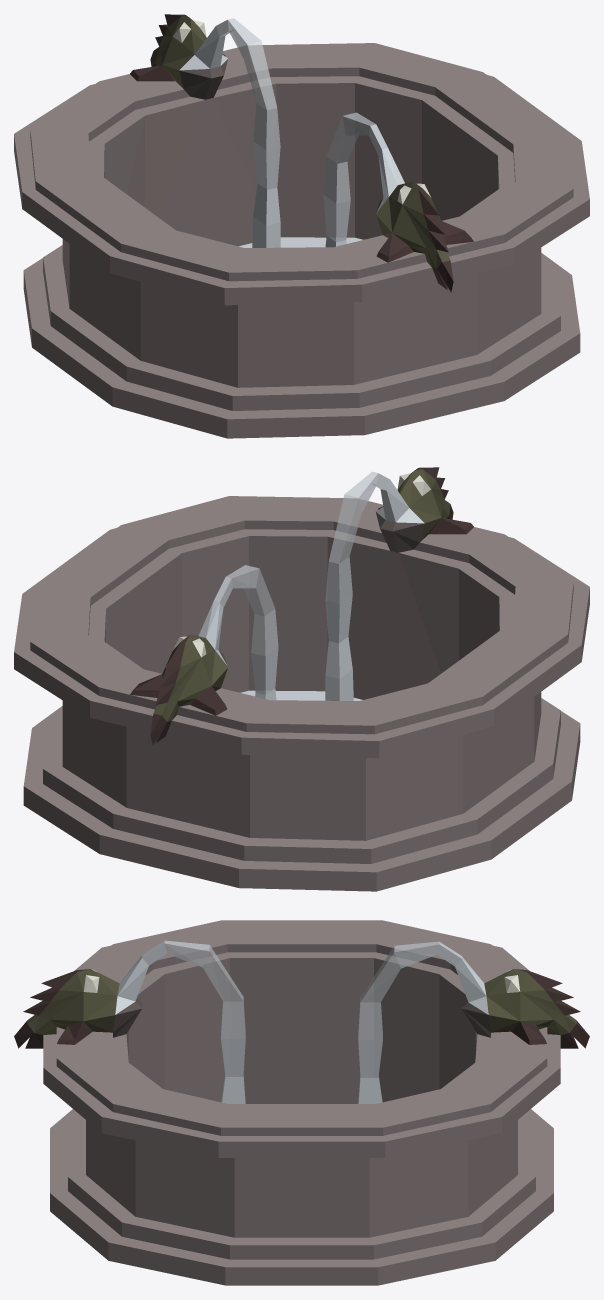
File: garden-theme.gltf
3 renders of one model, top to bottom at view 1: azimuth 30°, elevation 25°; view 2: azimuth 150°, elevation 25°; view 3: azimuth 270°, elevation 25°, orthographic. The views are drawn at different scales.
Bounding box in the file's own units: 230 × 116 × 256.
2 materials, 2 textured.
